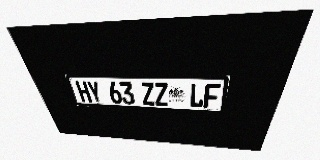3: (119, 82, 135, 104)
6: (107, 81, 123, 104)
F: (203, 83, 221, 108)
H: (75, 81, 93, 102)
L: (189, 83, 205, 108)
Y: (86, 81, 103, 103)
Z: (140, 82, 155, 105), (154, 82, 168, 106)
